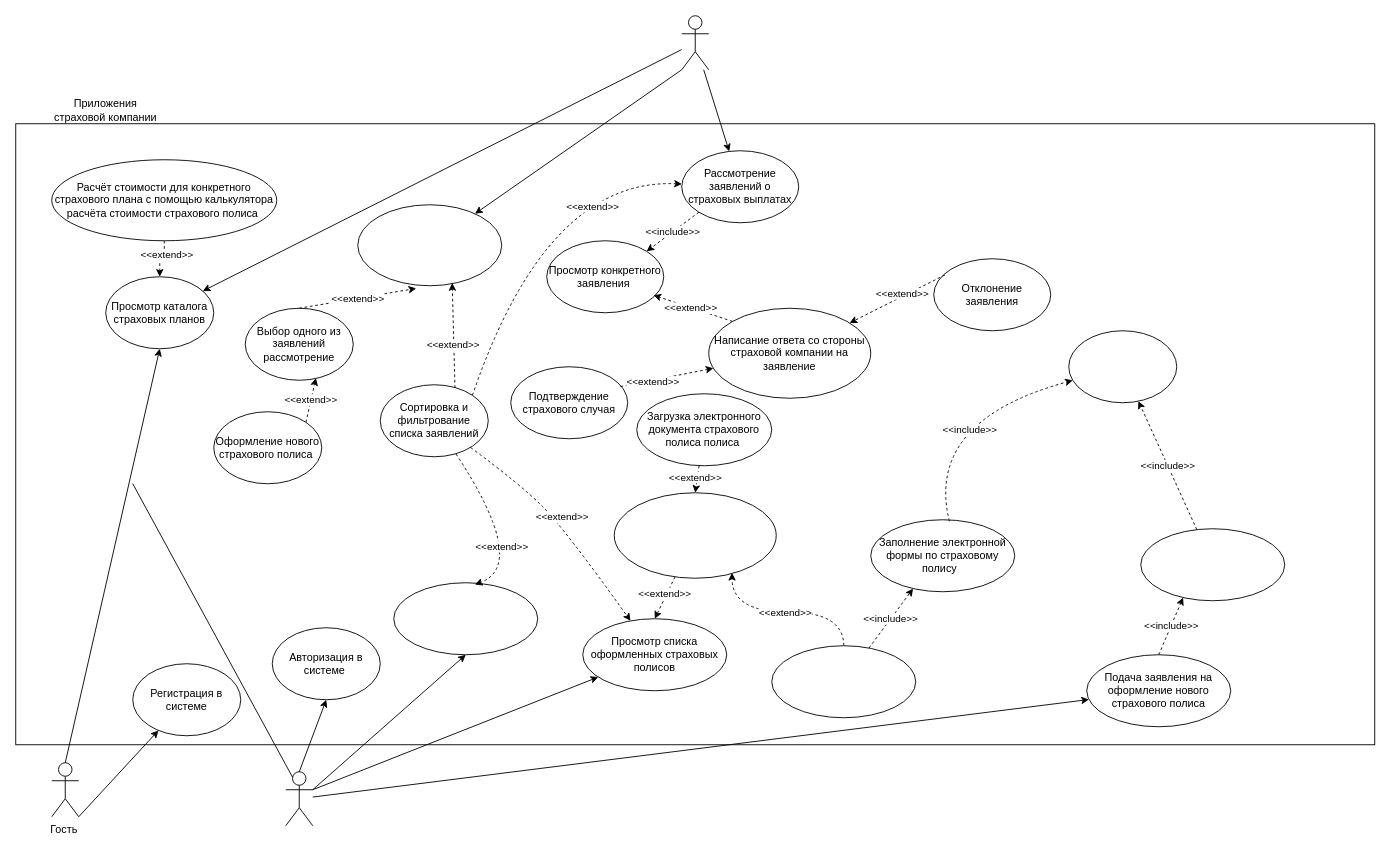
Some shapes in this 1391 by 860 pixel diagram are drawn without their labels. The centre of each missing label's shape, as x and y in pixels:
Выбор страхового полиса из списка оформленных страхвых полисов: (x=694, y=535)
Заполнение электронной формы по конкретному страховому плану: (x=1212, y=564)
Клиент: (x=299, y=798)
Отправка формы: (x=1122, y=366)
Подача заявлений о страховых выплатах: (x=843, y=681)
Просмотр списка заявления о страховых выплатах: (x=465, y=618)
Рассмотр заявлений на оформление нового страхового полиса: (x=429, y=245)
Страховой агент: (x=695, y=42)
